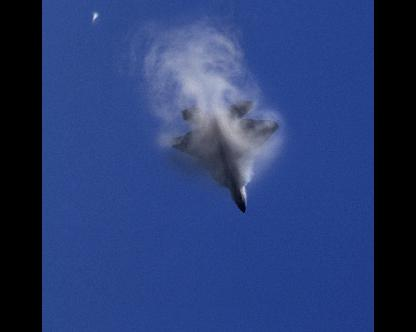F18: (169, 99, 278, 211)
